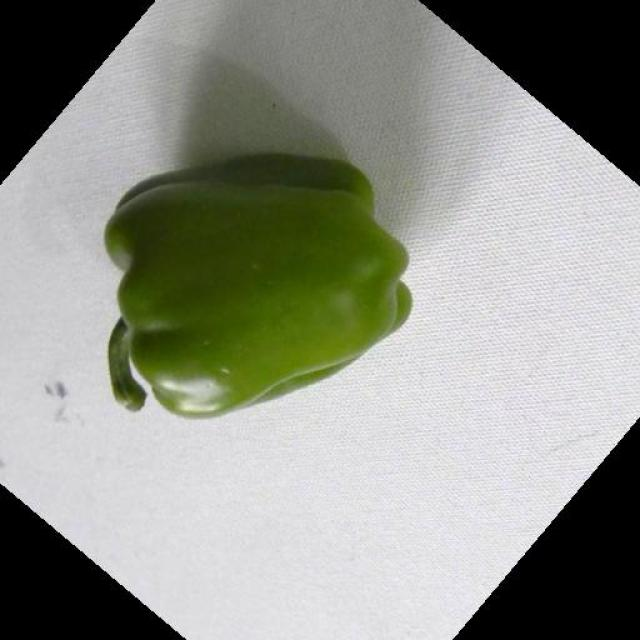Fresh_Capsicum: (98, 170, 390, 393)
